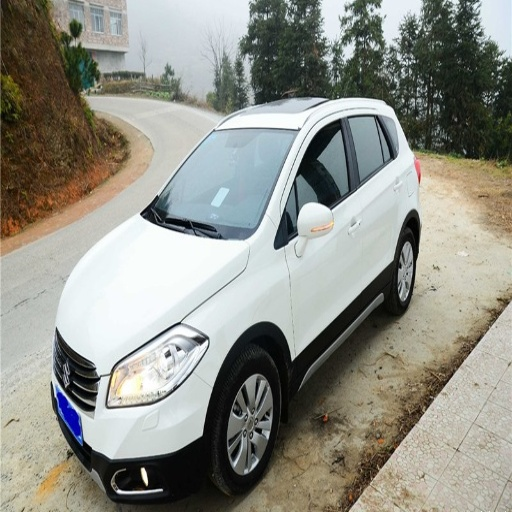front_bumper: (56, 325, 219, 506)
front_glass: (143, 130, 297, 238)
front_left_door: (281, 115, 366, 357)
